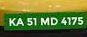1: (33, 15, 38, 27), (67, 15, 72, 26)
5: (78, 15, 84, 27), (26, 17, 33, 27)
7: (71, 13, 78, 27)
A: (16, 16, 25, 27)
D: (50, 16, 59, 26), (60, 16, 68, 26)
K: (7, 16, 16, 28)
M: (40, 15, 50, 27)
